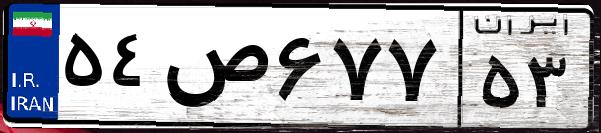3: (525, 38, 570, 115)
4: (110, 28, 158, 98)
5: (57, 26, 110, 100), (475, 38, 525, 113)
6: (270, 28, 330, 110)
7: (385, 28, 445, 110), (330, 28, 385, 110)
ص: (158, 20, 270, 120)
